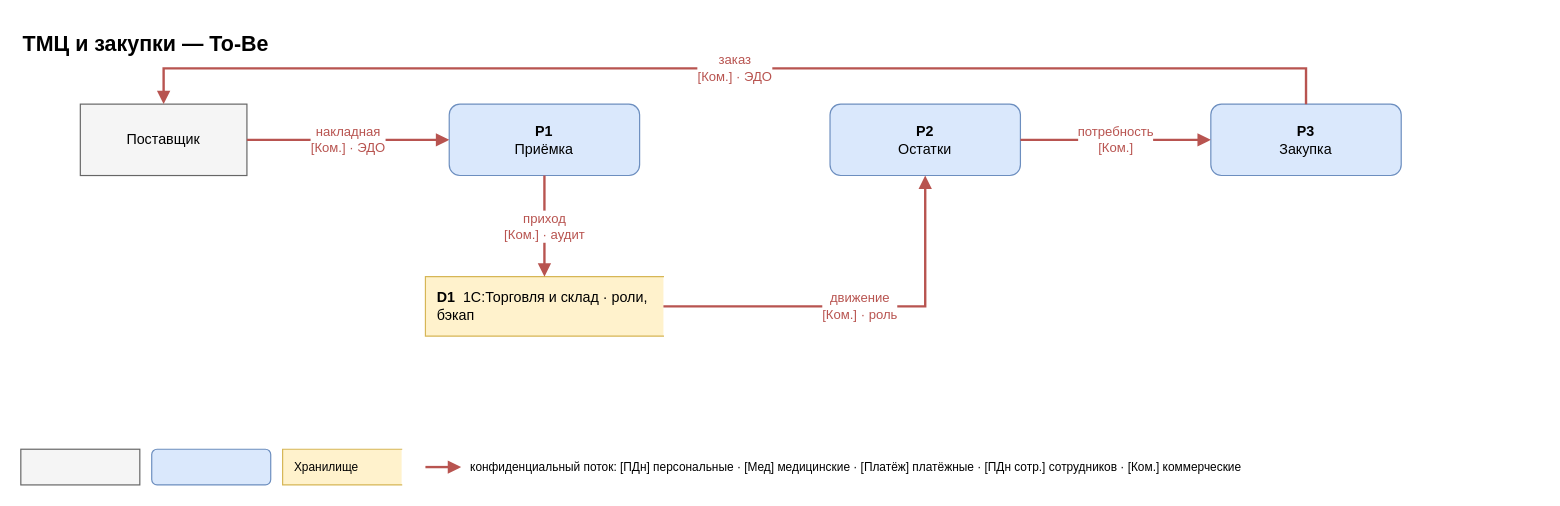
This 1560x506 diagram has some shape labels left out. The shapes that lost their labels are listed below. From the top down, each one's box as (x1, y1, x2, y2) in pixels, then its label:
(20, 448, 140, 485): Внешний субъект
(151, 448, 271, 485): Процесс
